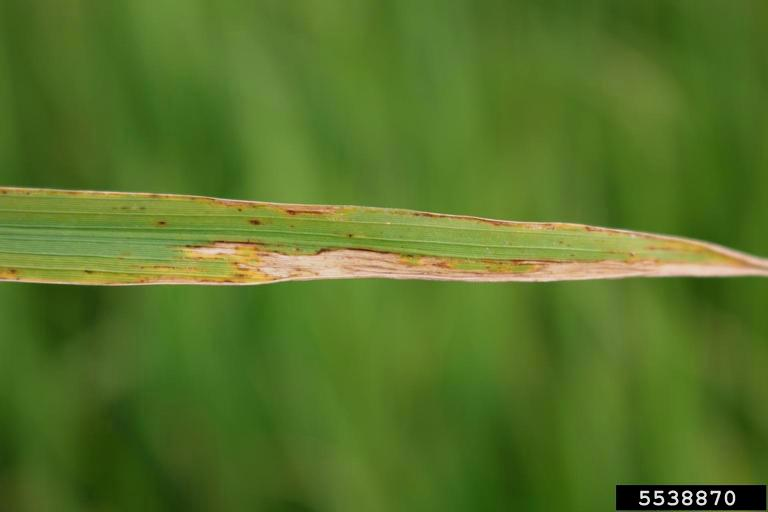2 BacterialBlight: (1, 184, 629, 243), (105, 238, 755, 293)
